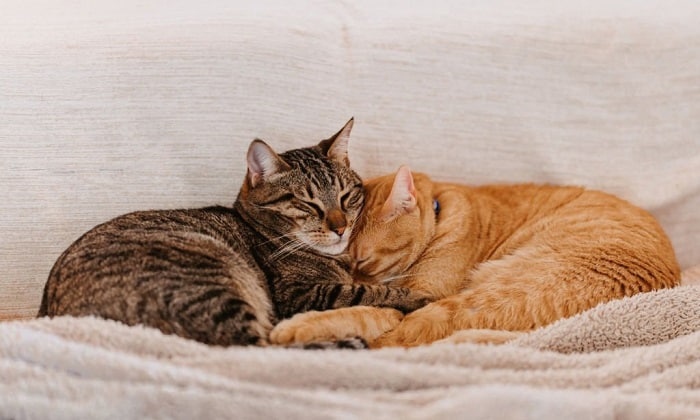cat: (38, 110, 429, 354), (269, 163, 680, 352)
